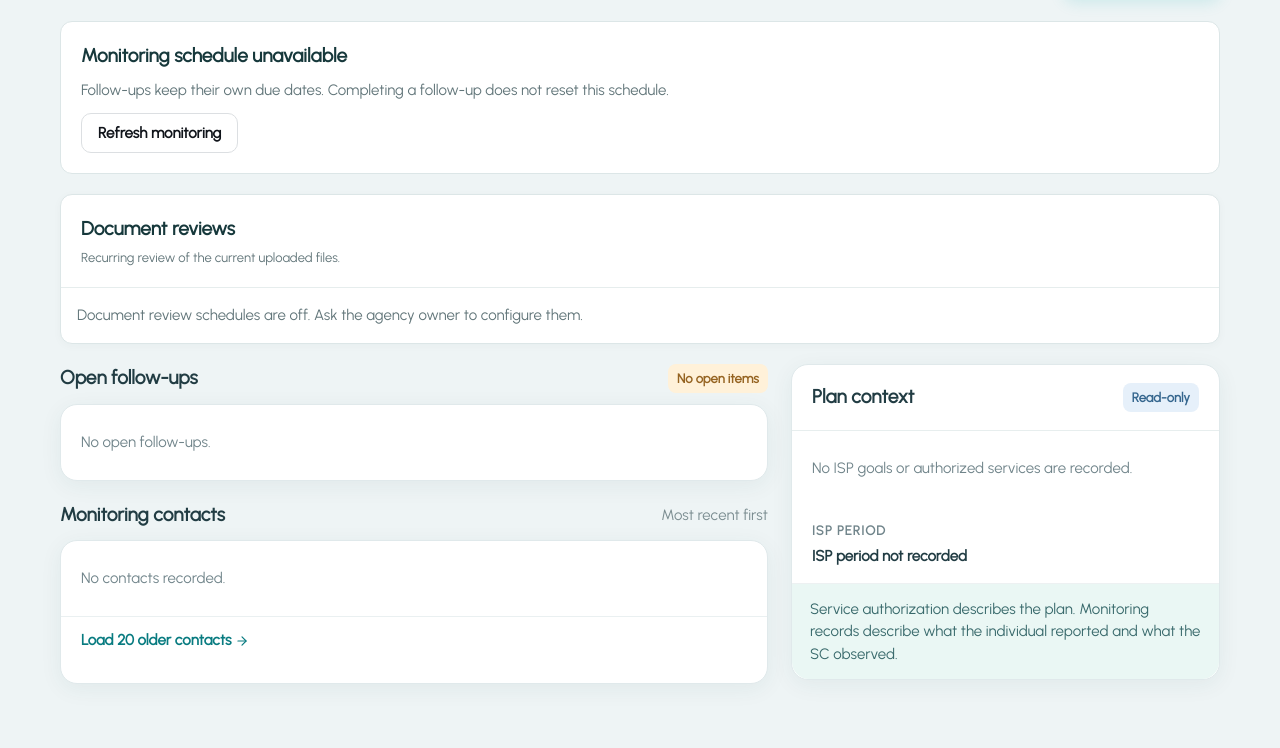
loads older contacts only when requested
(page scrolled)
Click the button "Load 20 older contacts" at (165, 640), box [81,629,249,652]
(page scrolled)
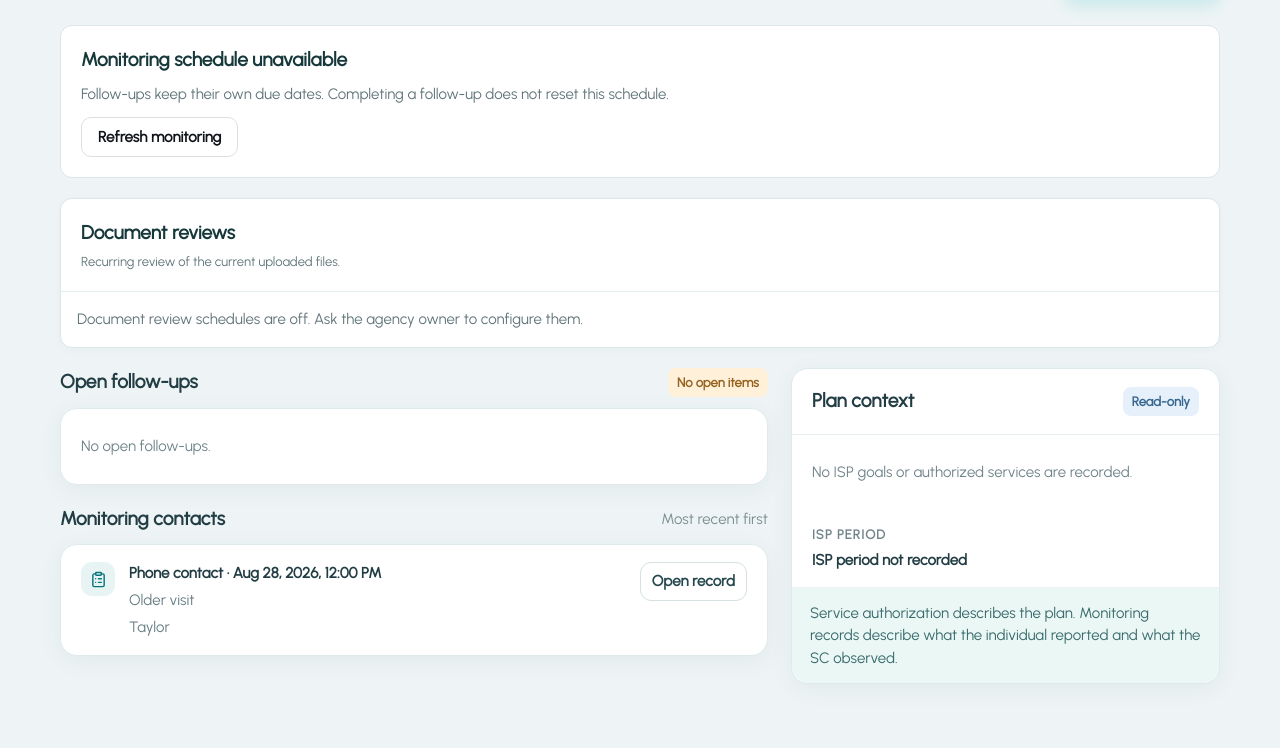
Check: the text "Older visit" is shown, box [129,591,194,609]
